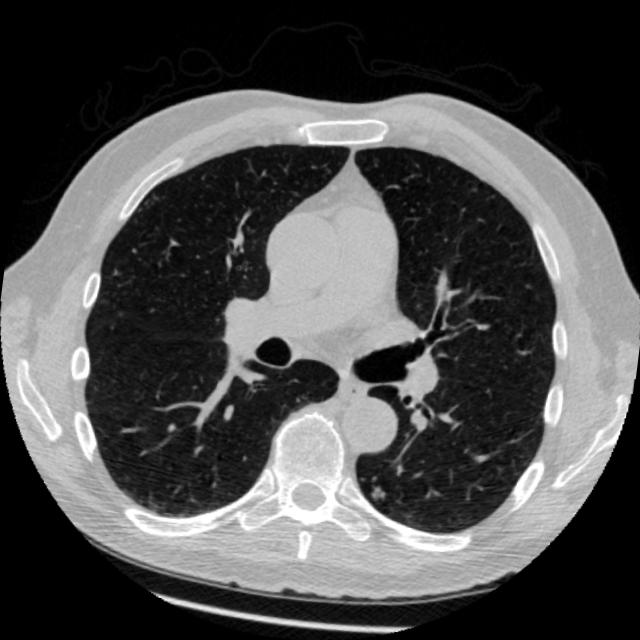nodule: (360, 477, 391, 508)
